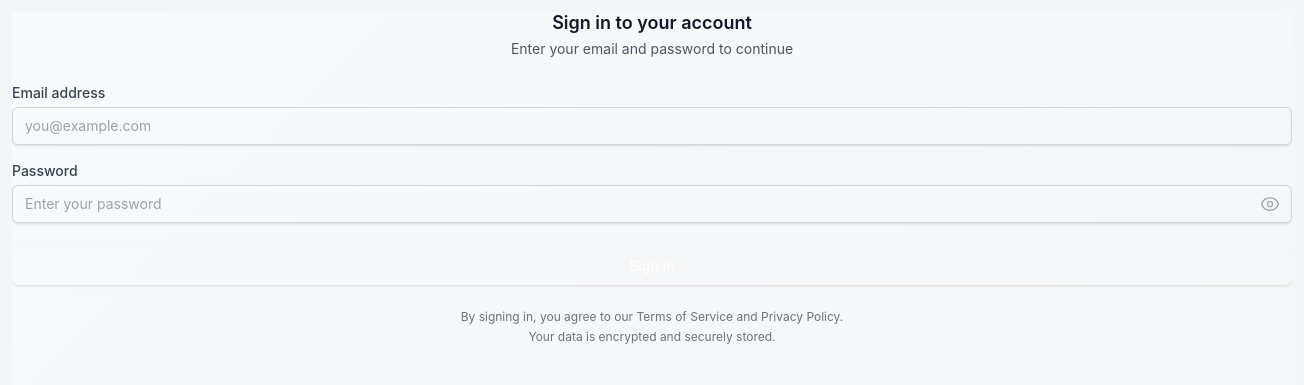
Test: PasswordLoginForm › Form Validation › should show error for short password
Type "short" into the password field with test id "password-input" at (652, 204), box [12,184,1292,222]
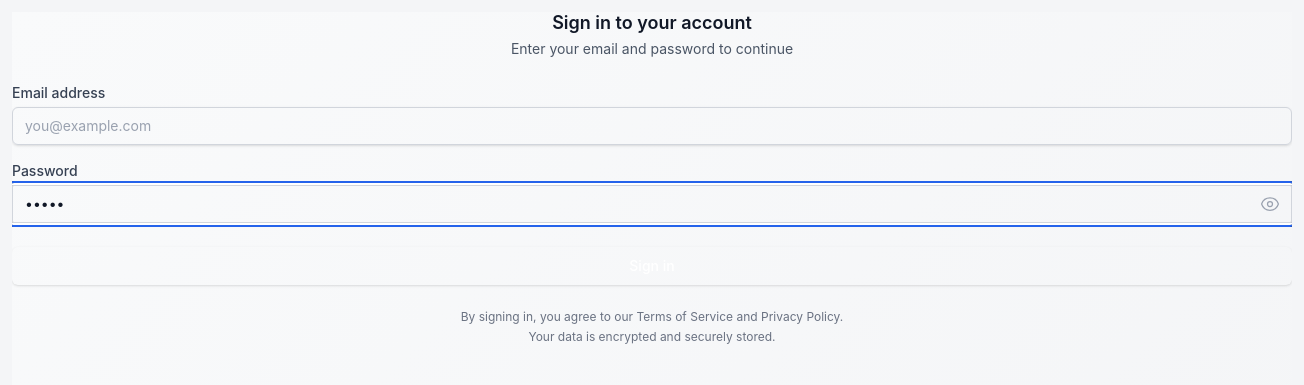
Press Tab
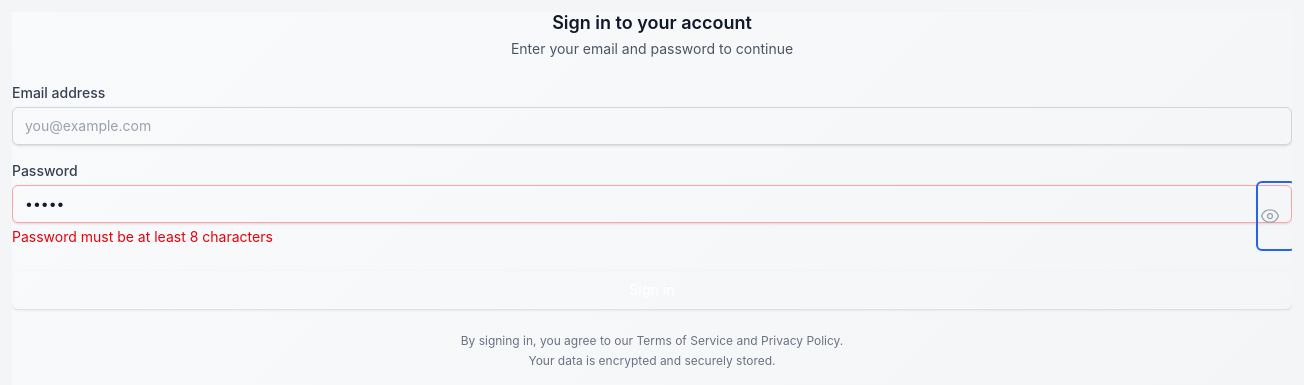
Check: the text "Password must be at least 8 characters" is shown, box [12,228,273,244]
